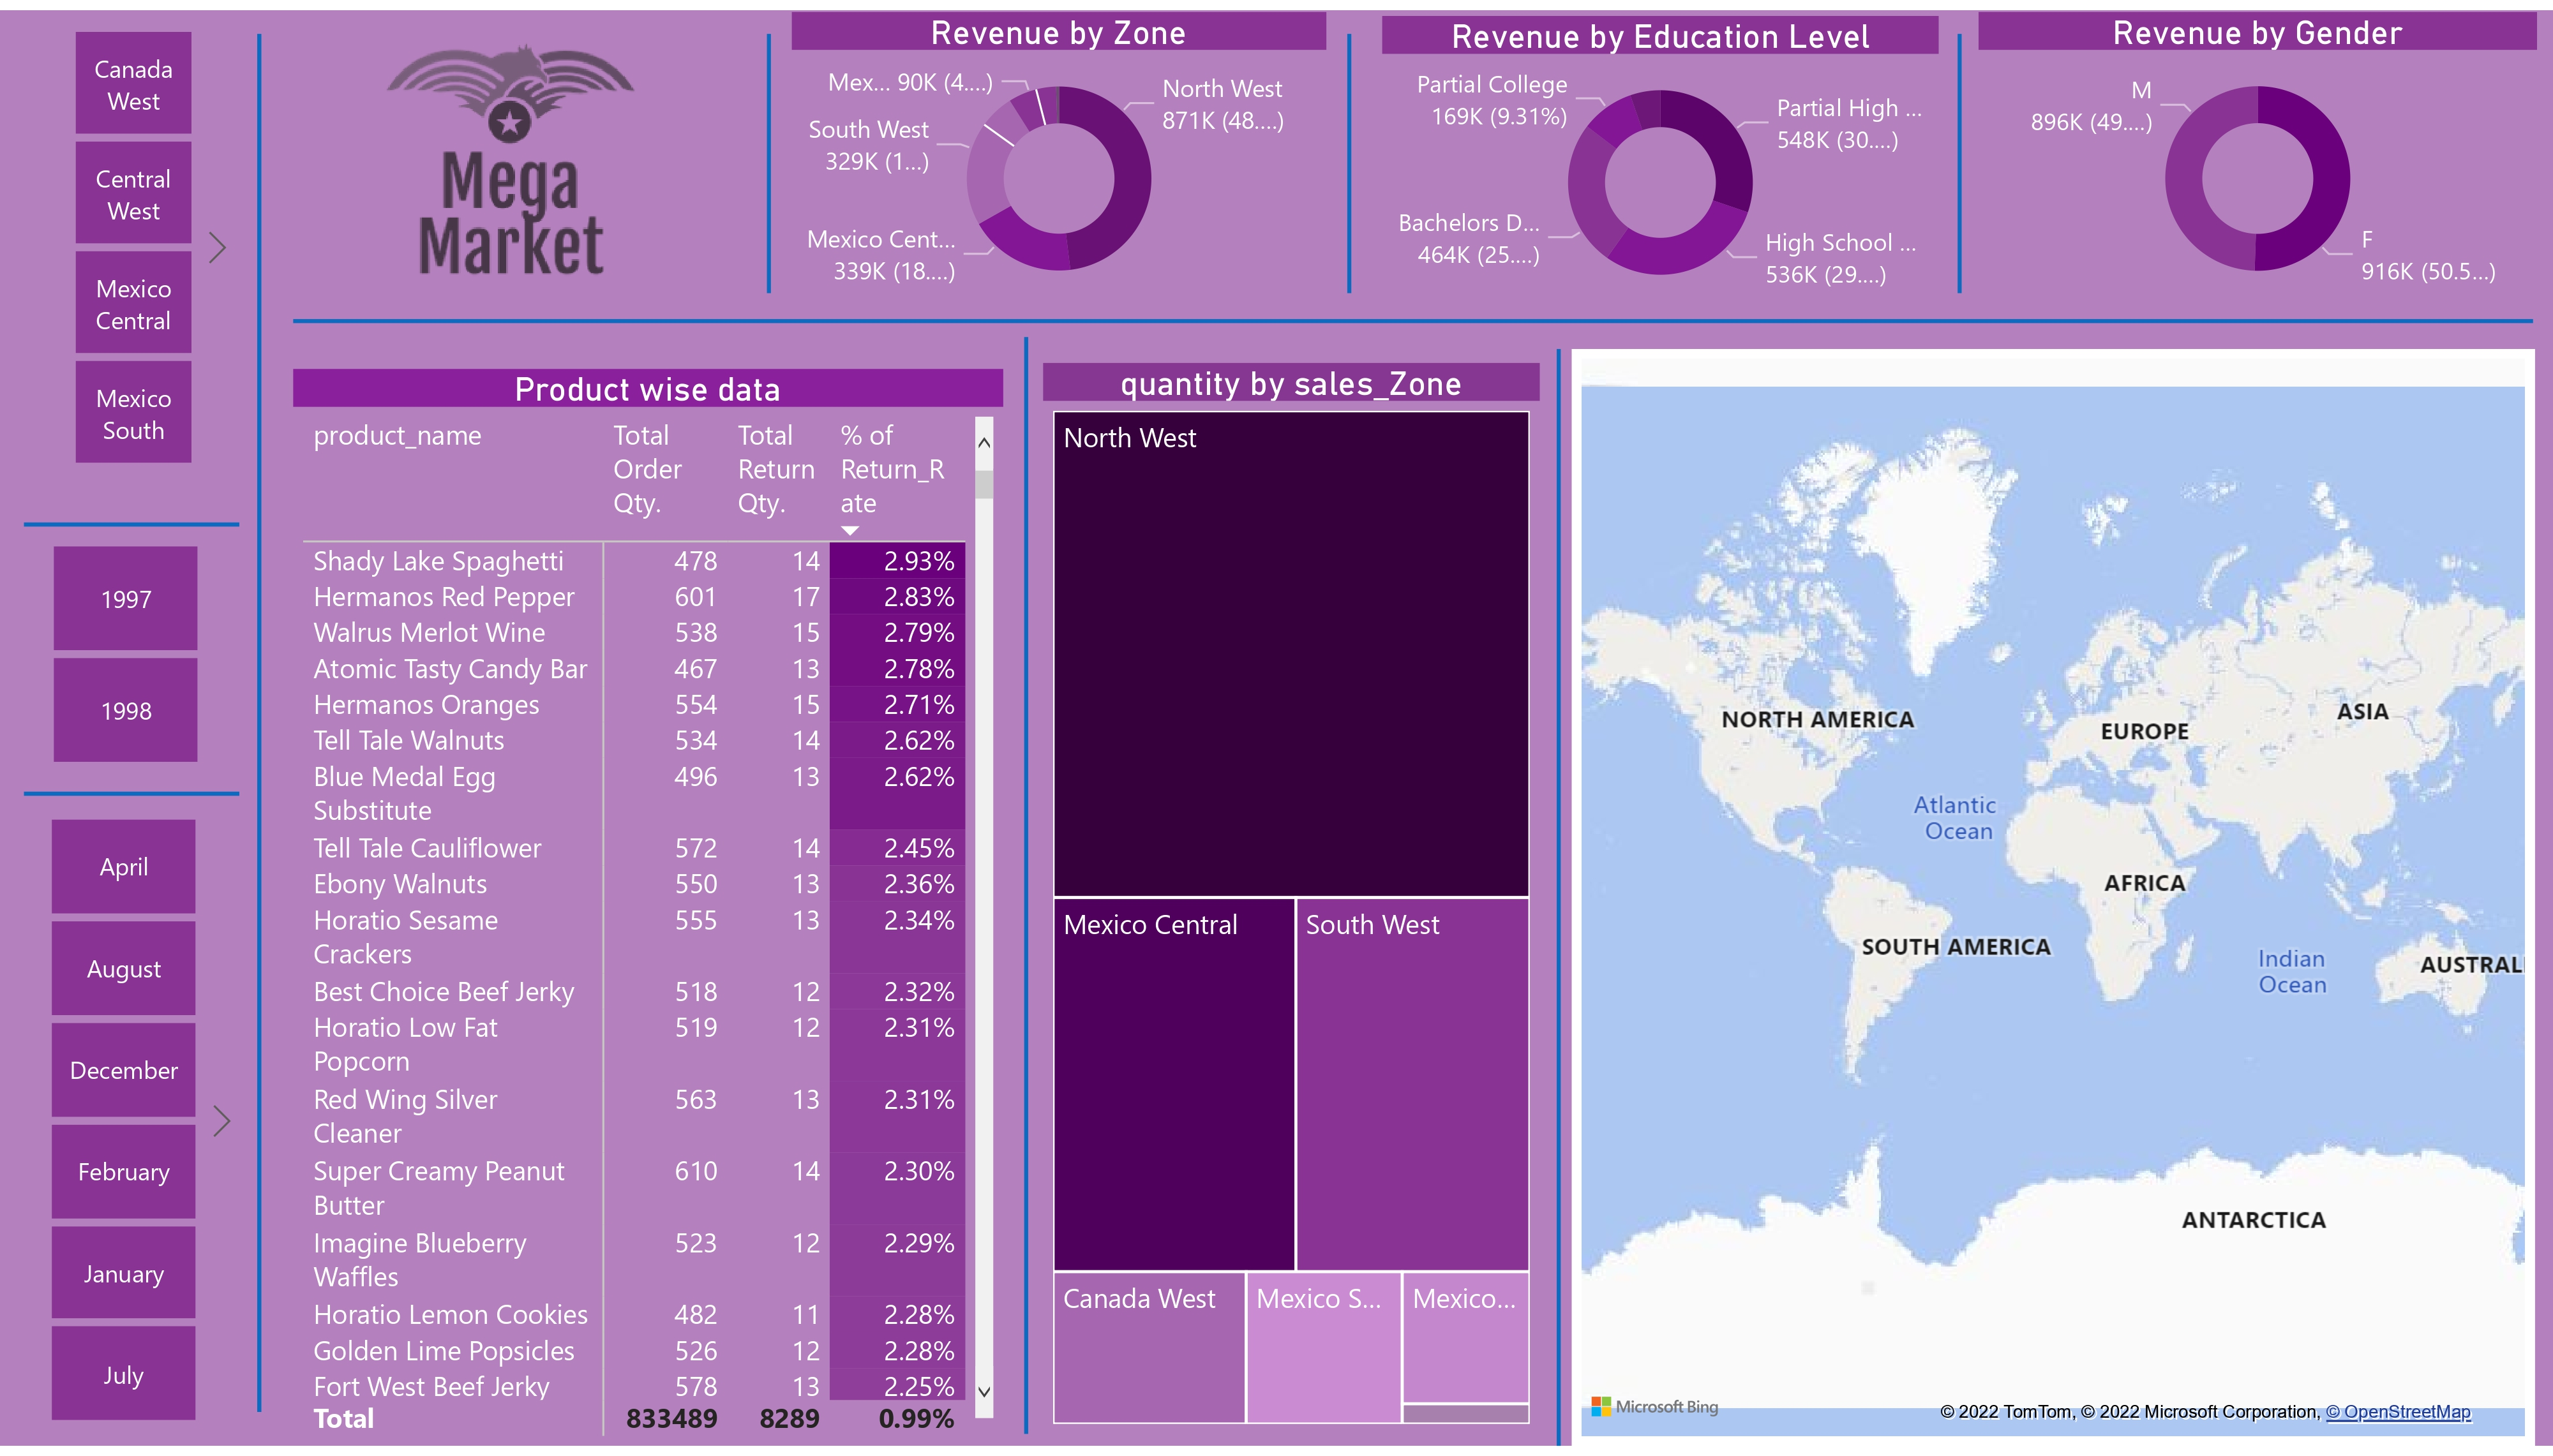

The dashboard page shown, as its layout file describes it:
{"tool":"powerbi","page":{"name":"Top Level Report","canvas":[1280,720],"ordinal":0},"visuals":[{"type":"pivotTable","title":"Product  wise data","fields":{"Rows":["d-Products.product_name"],"Values":["All Measure.Total Order Qty.","All Measure.Total Return Qty.","All Measure.% of Return_Rate"]},"box":[146.9,180,355.7,540],"z":0},{"type":"image","box":[138.2,1.4,234.7,146.9],"z":1000},{"type":"shape","box":[146.9,148.3,1123.2,15.8],"z":2000},{"type":"shape","box":[123.8,11.5,11.5,691.2],"z":3000},{"type":"shape","box":[378.7,11.5,13,129.6],"z":4000},{"type":"slicer","fields":{"Values":["d-Calendar.Month Name"]},"box":[0,398.9,122.4,315.4],"z":5000},{"type":"treemap","title":"quantity by sales_Zone","fields":{"Group":["d-Regions.sales_region_Zone"],"Values":["Sum(f-Transactions.quantity)"]},"box":[522.7,177.1,249.1,537.1],"z":6000},{"type":"slicer","fields":{"Values":["LocalDateTable_b6f16913-feb4-423c-9c15-33a4d0abe469.Year"]},"box":[1.4,262.1,122.4,122.4],"z":7000},{"type":"shape","box":[508.3,164.2,13,550.1],"z":8000},{"type":"shape","box":[774.7,169.9,13,550.1],"z":9000},{"type":"map","fields":{"Category":["d-Regions.sales_district"],"Size":["Sum(f-Transactions.quantity)"]},"box":[788,170,483,550],"z":10000},{"type":"shape","box":[11.5,387.4,108,11.5],"z":11000},{"type":"shape","box":[11.5,252,108,11.5],"z":12000},{"type":"slicer","fields":{"Values":["d-Regions.sales_region"]},"box":[11.5,4.3,108,230.4],"z":13000},{"type":"donutChart","title":"Revenue by Zone","fields":{"Category":["d-Regions.sales_region_Zone"],"Y":["Sum(f-Transactions.Revenue)"]},"box":[397.4,1.4,267.8,148.3],"z":14000},{"type":"donutChart","title":"Revenue by Gender","fields":{"Y":["Sum(f-Transactions.Revenue)"],"Category":["d-Customers.gender"]},"box":[992.2,1,280,148.3],"z":15000},{"type":"donutChart","title":"Revenue by Education Level","fields":{"Y":["Sum(f-Transactions.Revenue)"],"Category":["d-Customers.education"]},"box":[692.6,2.9,279.4,148.3],"z":16000},{"type":"shape","box":[669.6,11.5,13,129.6],"z":17000},{"type":"shape","box":[976.3,11.5,13,129.6],"z":18000}]}

Visuals, with their boxes in screenshot pixels (x1, y1, x2, y2), scaled from the page's 1280x720 canvas onto the 2553x1456 screenshot:
"Product  wise data" pivotTable: <region>293, 364, 1003, 1455</region>
image: <region>276, 3, 744, 300</region>
shape: <region>293, 300, 2533, 332</region>
shape: <region>247, 23, 270, 1421</region>
shape: <region>755, 23, 781, 285</region>
slicer - d-Calendar.Month Name: <region>0, 806, 244, 1445</region>
"quantity by sales_Zone" treemap: <region>1042, 358, 1539, 1445</region>
slicer - LocalDateTable_b6f16913-feb4-423c-9c15-33a4d0abe469.Year: <region>3, 530, 247, 778</region>
shape: <region>1014, 332, 1040, 1445</region>
shape: <region>1545, 343, 1571, 1455</region>
map - d-Regions.sales_district x Sum(f-Transactions.quantity): <region>1571, 344, 2535, 1455</region>
shape: <region>23, 784, 238, 806</region>
shape: <region>23, 510, 238, 533</region>
slicer - d-Regions.sales_region: <region>23, 9, 238, 475</region>
"Revenue by Zone" donutChart: <region>793, 3, 1327, 302</region>
"Revenue by Gender" donutChart: <region>1979, 2, 2538, 302</region>
"Revenue by Education Level" donutChart: <region>1381, 6, 1939, 306</region>
shape: <region>1335, 23, 1361, 285</region>
shape: <region>1947, 23, 1973, 285</region>
